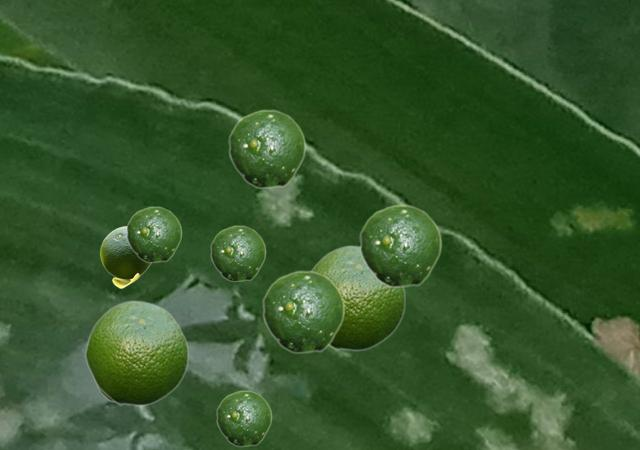calamansi: (84, 299, 188, 405), (309, 244, 405, 350), (262, 270, 344, 353), (359, 204, 441, 287), (228, 109, 305, 188), (100, 226, 151, 287), (216, 390, 271, 446), (210, 225, 265, 281), (126, 206, 181, 262)
